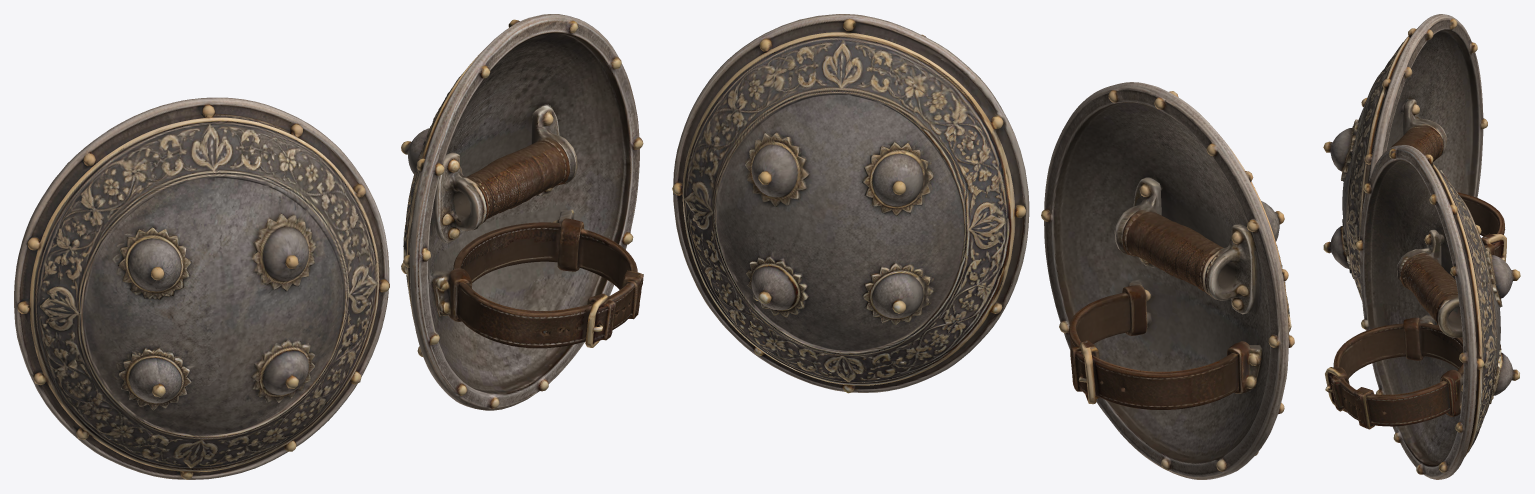
Rendered from Çelik kalkan.glb.
The picture shows the model from 3 angles, left to right: view 1: azimuth 30°, elevation 25°; view 2: azimuth 150°, elevation 25°; view 3: azimuth 270°, elevation 25°; orthographic projection. The views are drawn at different scales.
Visible parts, largest first — view 1: tripo_node_a3bb055e-b841-41dc-8412-2f35a2550893; view 2: tripo_node_a3bb055e-b841-41dc-8412-2f35a2550893; view 3: tripo_node_a3bb055e-b841-41dc-8412-2f35a2550893.
Boxes of the visible parts, x1,y1,x2,y2 form: tripo_node_a3bb055e-b841-41dc-8412-2f35a2550893: (14, 14, 643, 479); tripo_node_a3bb055e-b841-41dc-8412-2f35a2550893: (672, 14, 1294, 479); tripo_node_a3bb055e-b841-41dc-8412-2f35a2550893: (1323, 14, 1520, 479).
Size of the model in its own units: 0.9802 by 0.5711 by 0.3242.
Materials: 1 (1 with a texture image).
